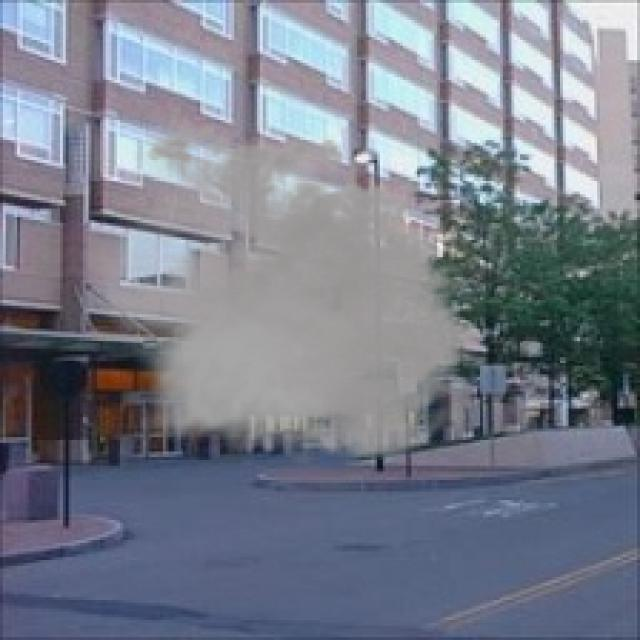Smoke: (80, 114, 494, 472)
